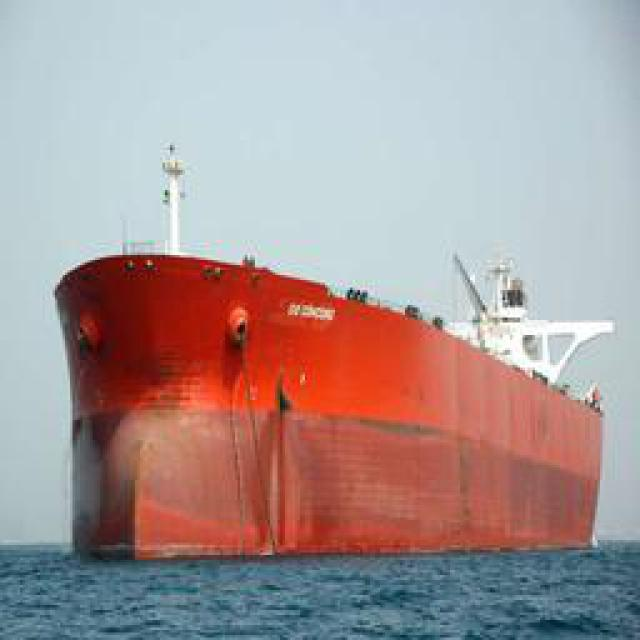Ship: (46, 230, 611, 570)
